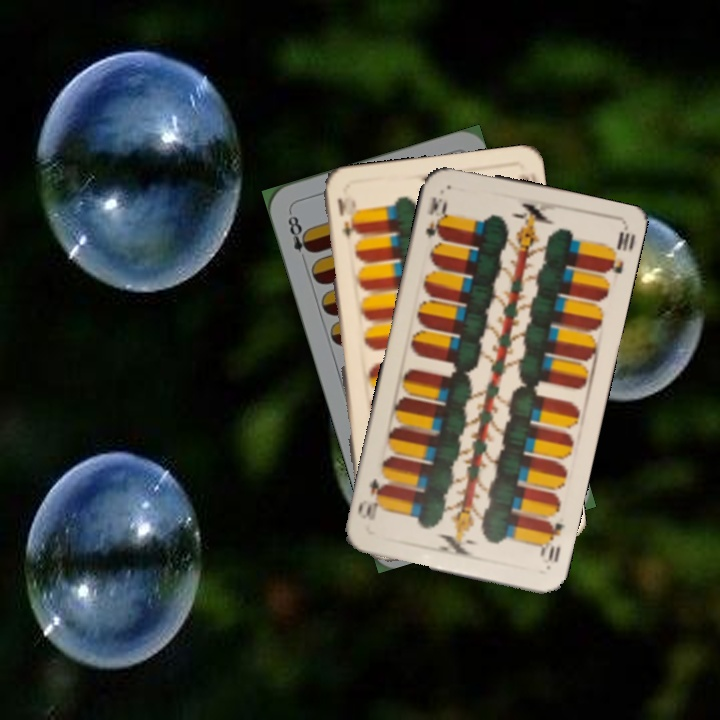E10: (421, 193, 450, 247), (536, 517, 568, 565), (333, 194, 356, 243)
E8: (283, 207, 315, 266)
